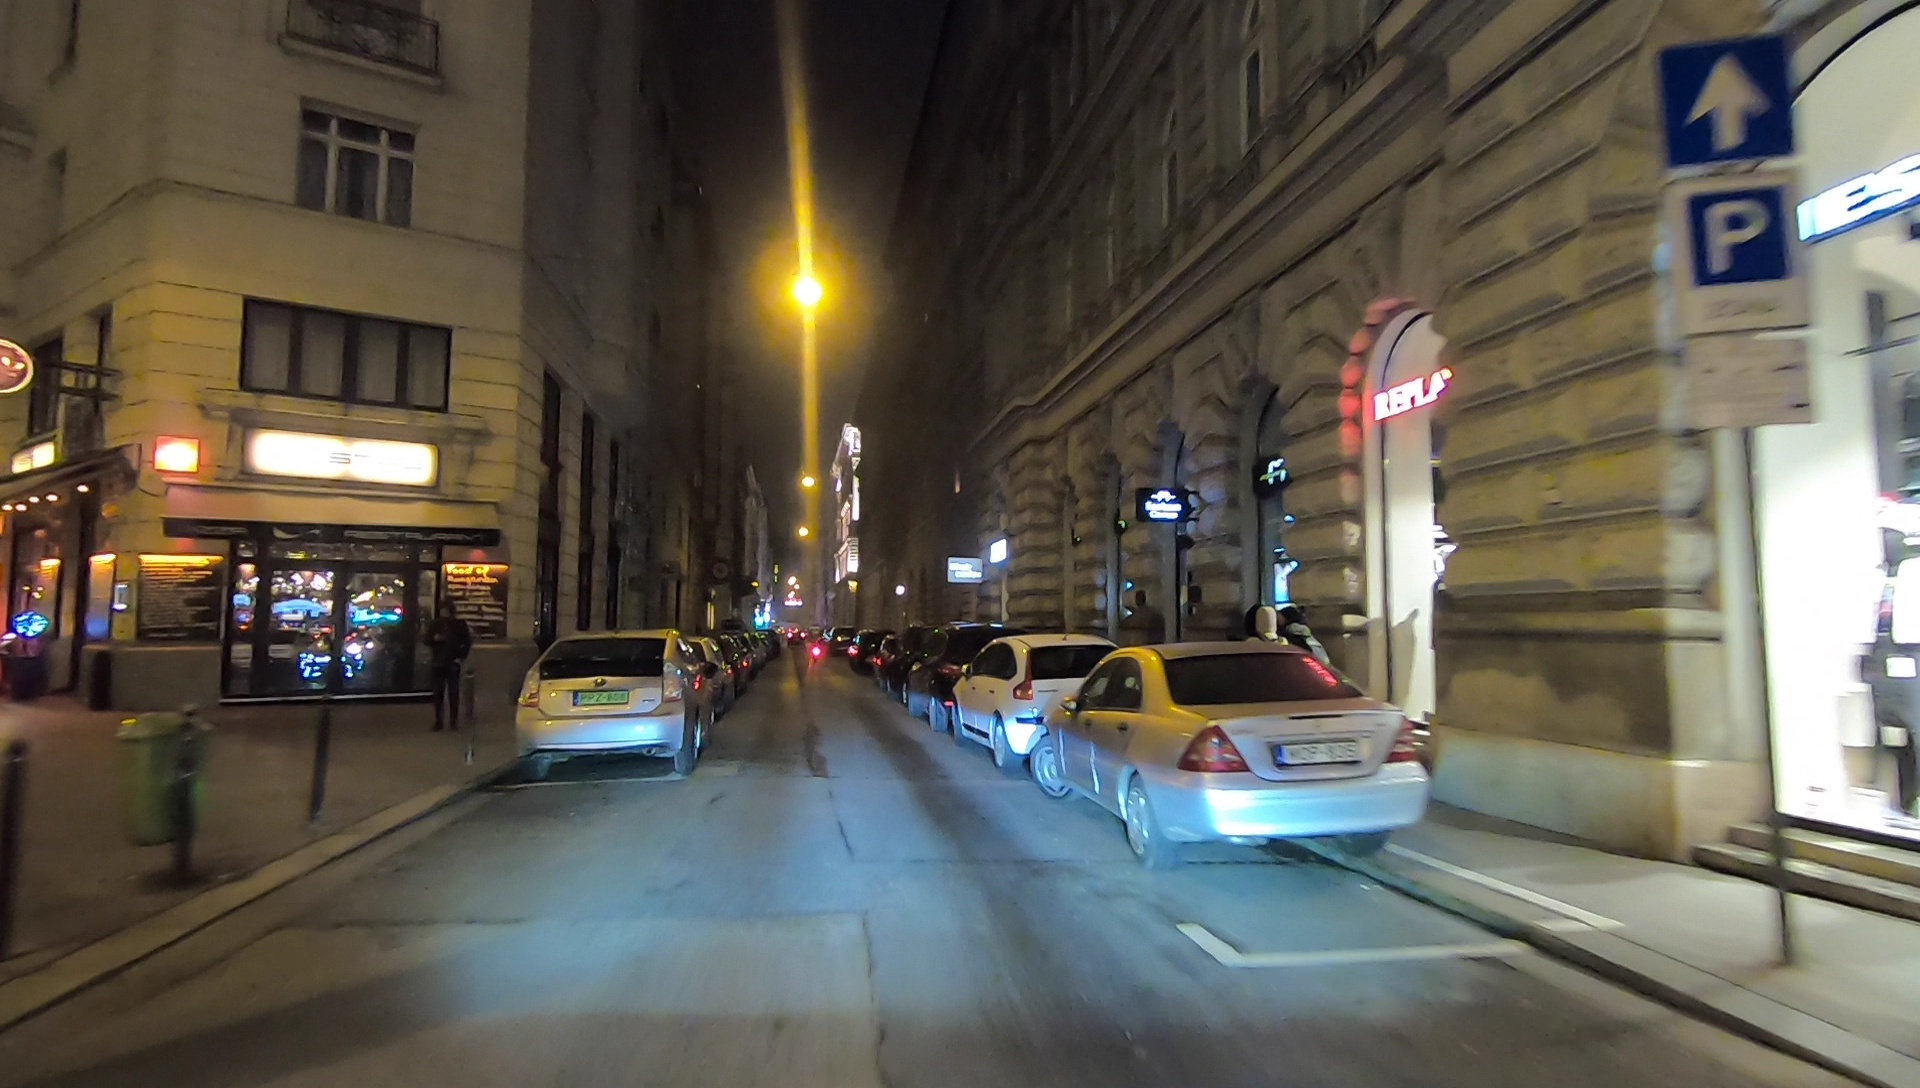person: (432, 606, 467, 726)
